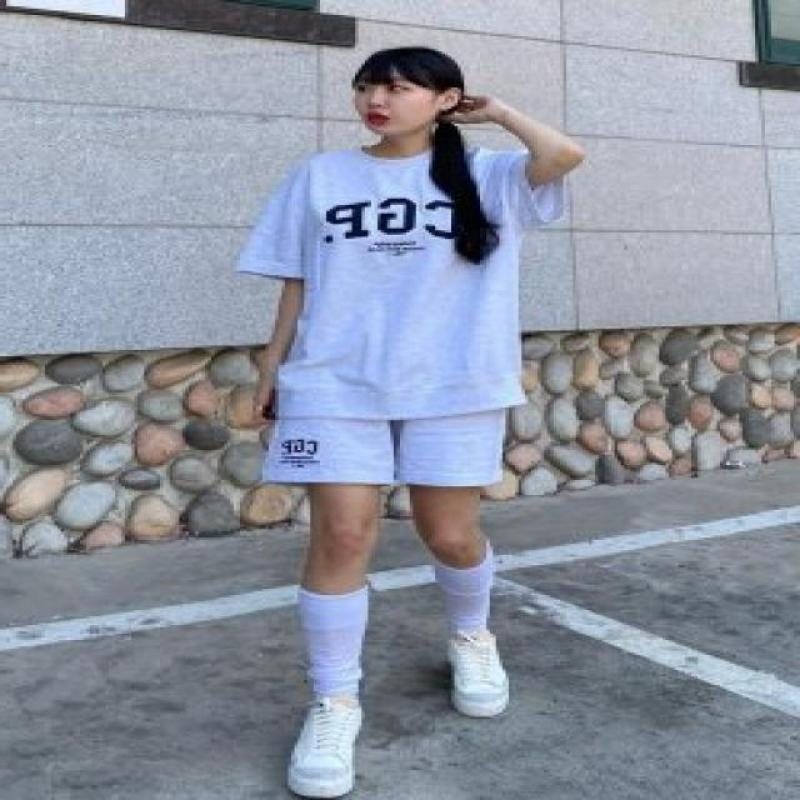Shorts: (260, 398, 508, 489)
short sleeve shirt: (234, 137, 571, 424)
